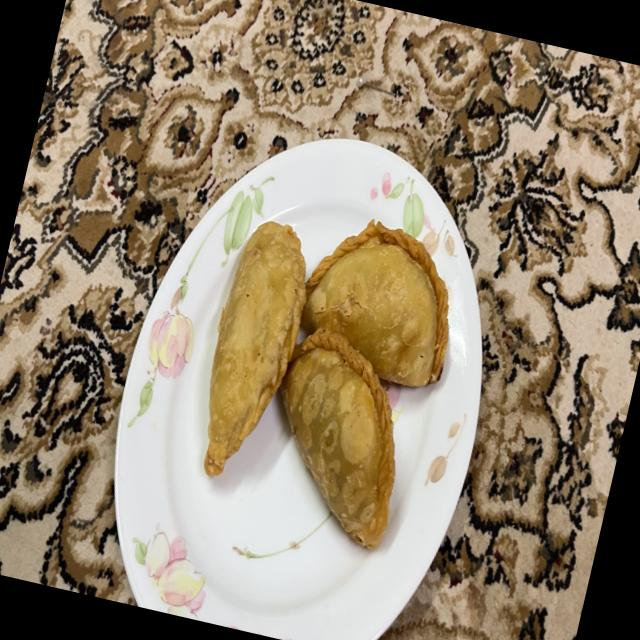karipap: (203, 221, 306, 476), (280, 328, 395, 549), (300, 220, 448, 387)
